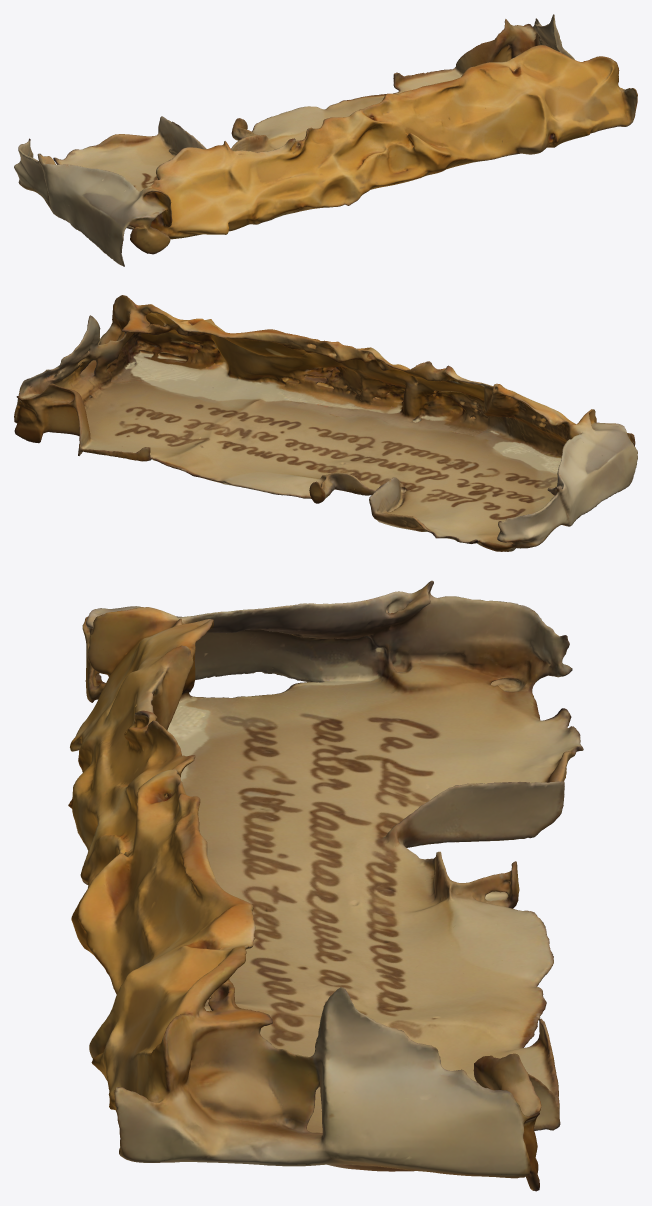
Rendered from Meshy_AI_Rolled_parchment_with_0519140120_texture.fbx.
3 renders of one model, top to bottom at view 1: azimuth 30°, elevation 25°; view 2: azimuth 150°, elevation 25°; view 3: azimuth 270°, elevation 25°, orthographic. The views are drawn at different scales.
Visible parts, largest first — view 1: Mesh_0; view 2: Mesh_0; view 3: Mesh_0.
Boxes of the visible parts, bbox=[...] form: Mesh_0: bbox=[14, 14, 637, 266]; Mesh_0: bbox=[14, 295, 637, 551]; Mesh_0: bbox=[68, 580, 583, 1191].
Bounding box in the file's own units: 200 × 35.22 × 85.47.
Materials: 1 (1 with a texture image).
